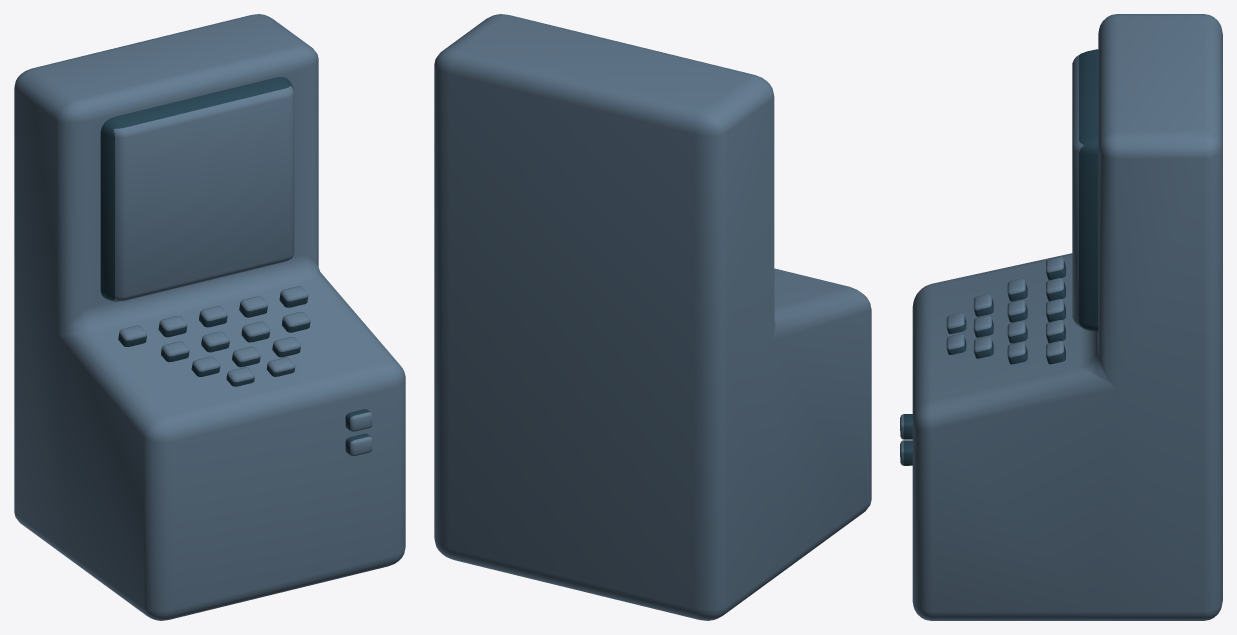
File: Computer.fbx
The picture shows the model from 3 angles, left to right: view 1: azimuth 30°, elevation 25°; view 2: azimuth 150°, elevation 25°; view 3: azimuth 270°, elevation 25°; orthographic projection. The views are drawn at different scales.
Visible parts, largest first — view 1: MDL_Computer; view 2: MDL_Computer; view 3: MDL_Computer.
Part boxes in pixels (<box>): MDL_Computer: <box>14,14,405,620</box>; MDL_Computer: <box>434,14,871,620</box>; MDL_Computer: <box>900,14,1222,620</box>.
Size of the model in its own units: 236 by 396 by 238.
